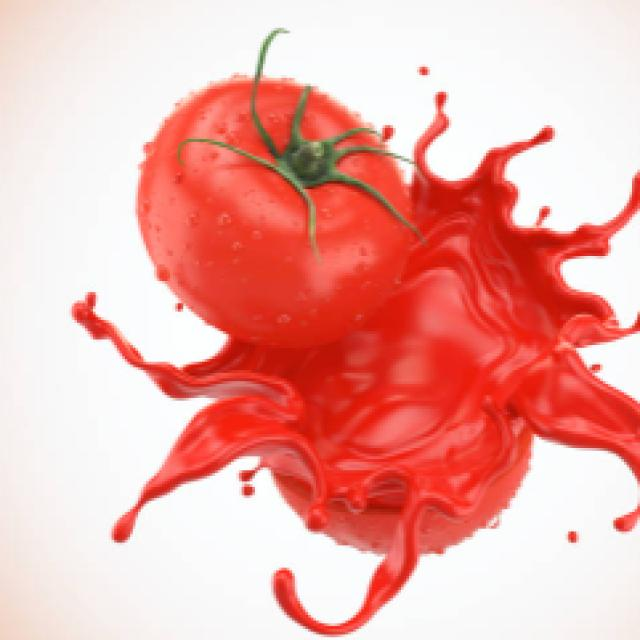Tomato: (139, 52, 421, 345)
